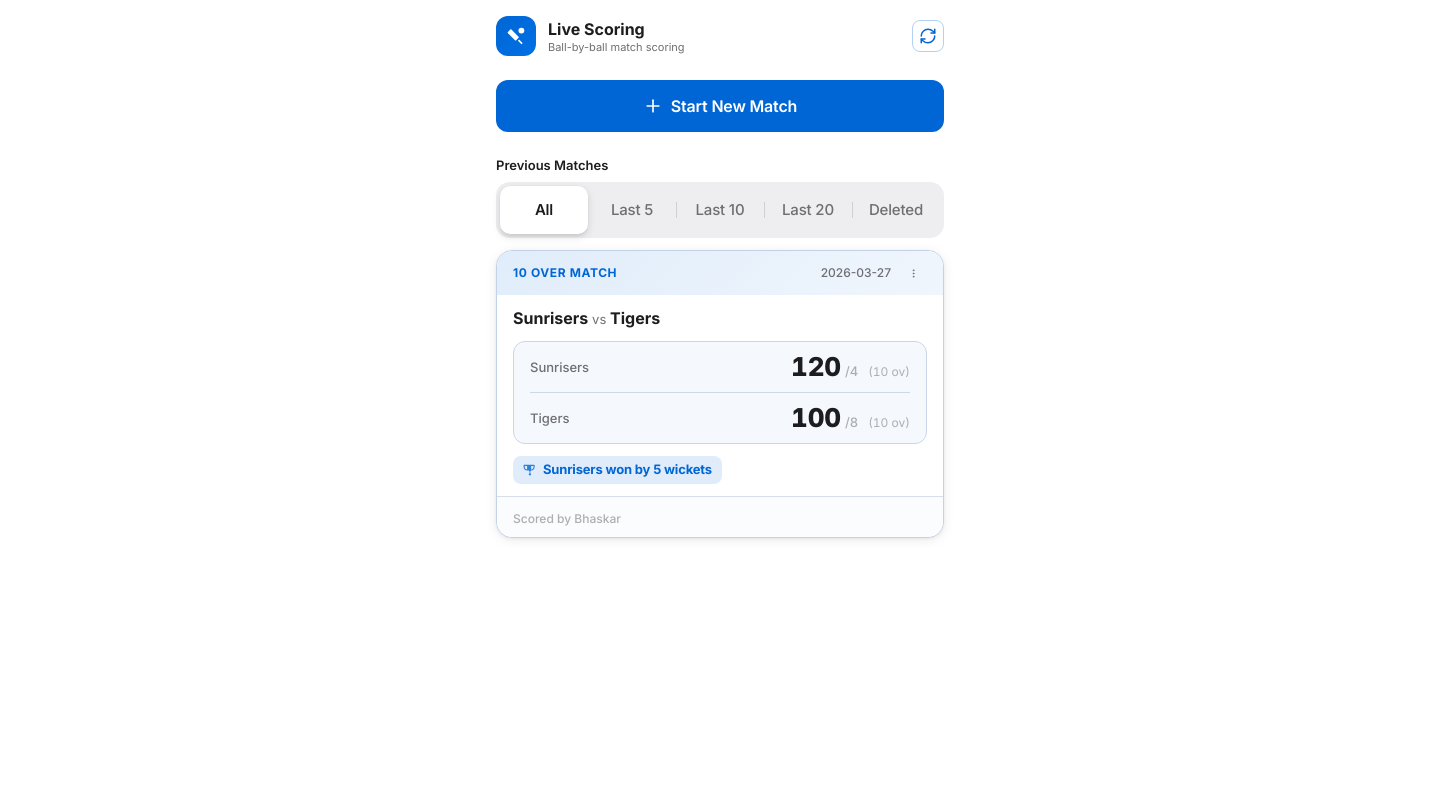
Test: MatchCard + ScoringLanding › delete flow from three-dot menu opens dialog and deletes
// Open menu
Click the button titled "Options" at (913, 273), box 899,259 -> 927,287
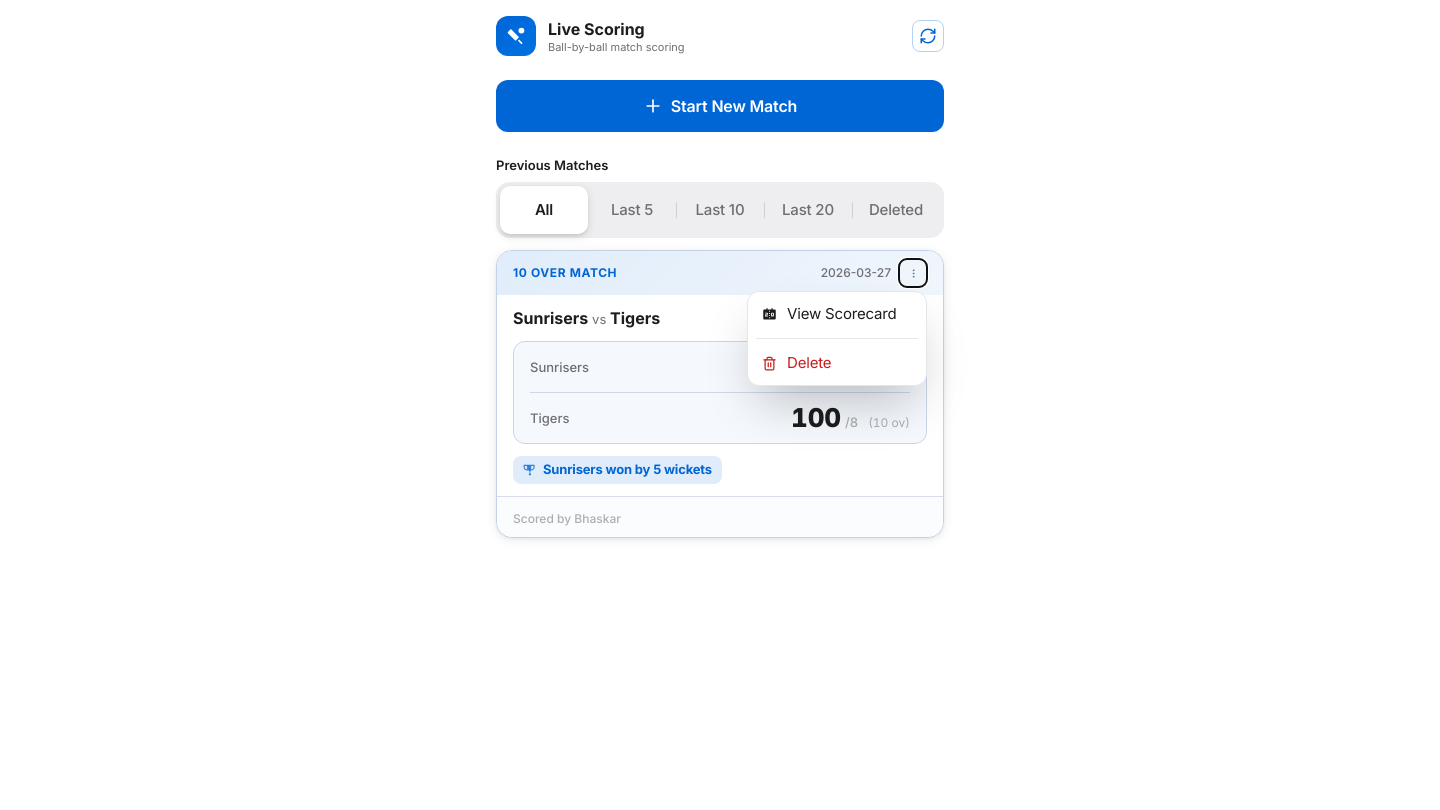
// Click Delete
Click the button "Delete" at (837, 363), box 748,341 -> 926,385
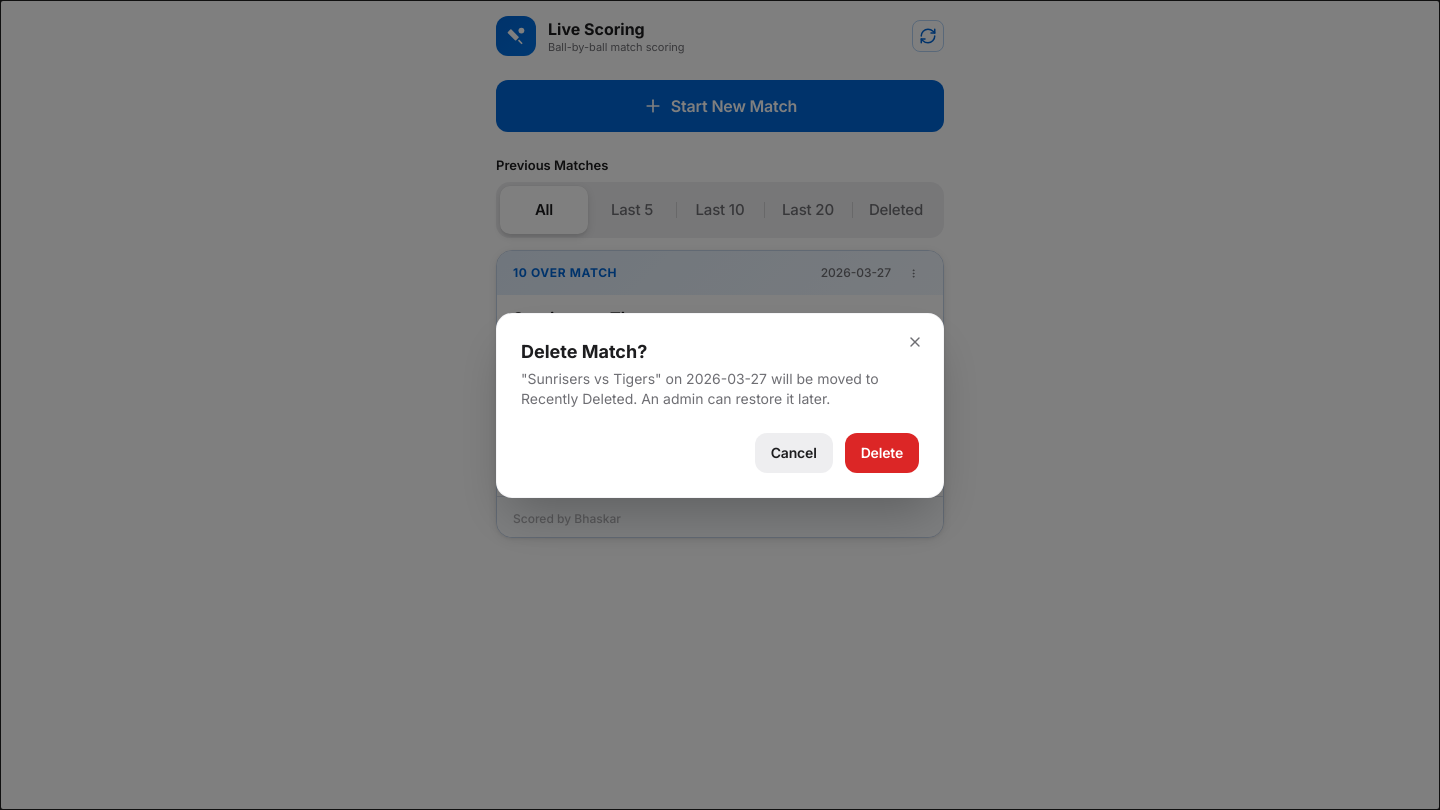
Expected: the heading "Delete Match?" is shown, 521,340 -> 647,362
// Confirm delete
Click the button "Delete" at (882, 452), box 845,432 -> 919,472
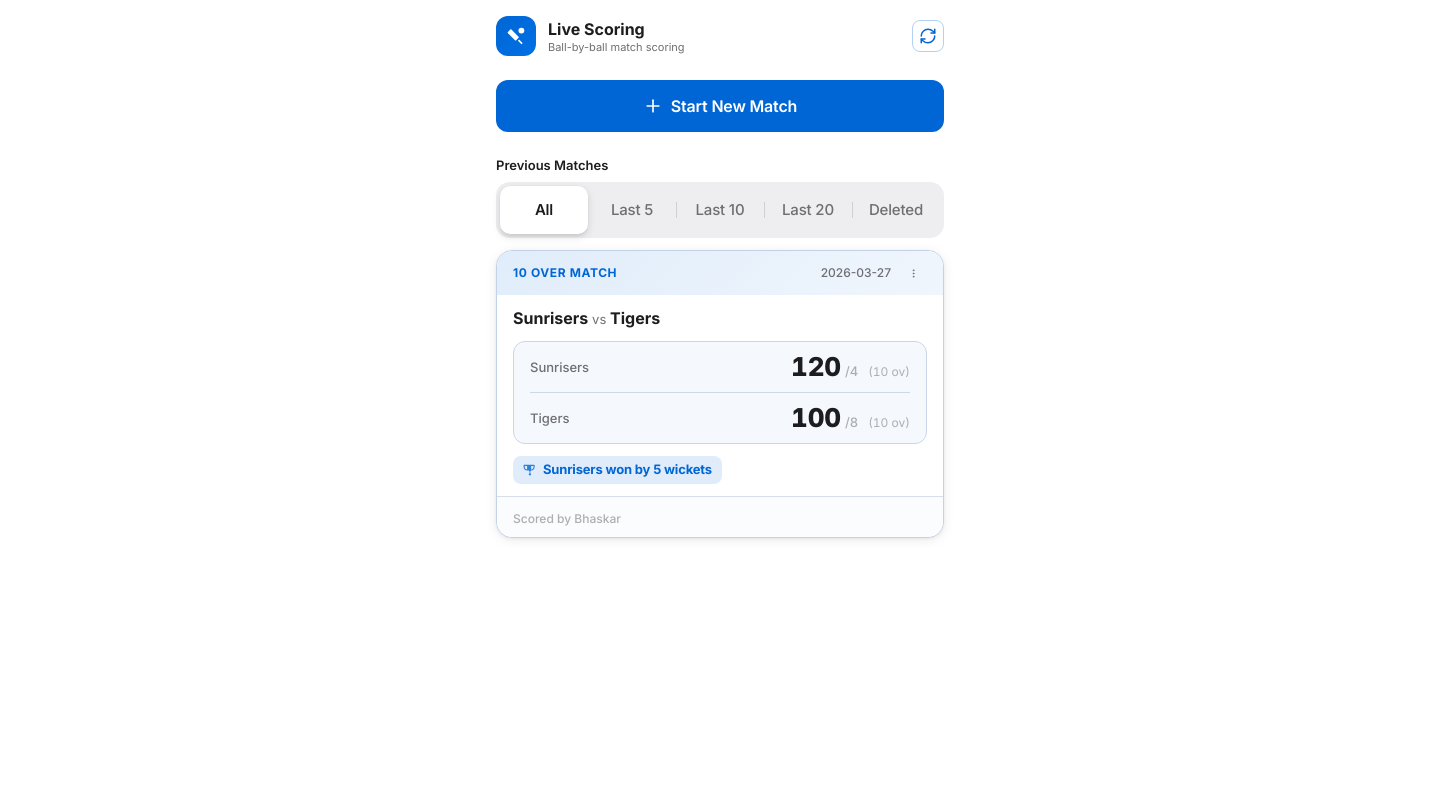
Expected: the heading "Delete Match?" is gone
